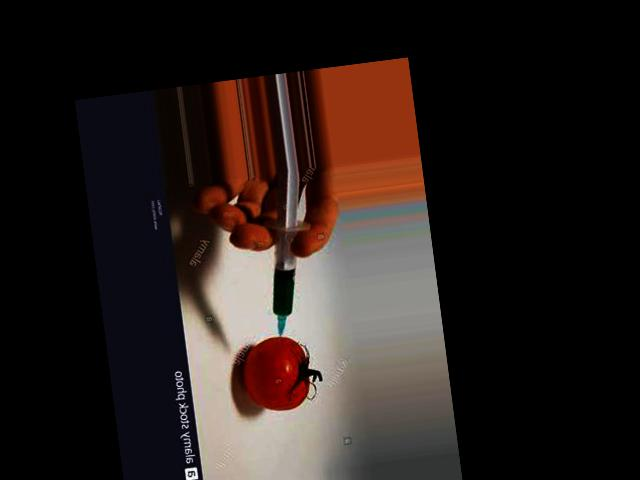tomato: (238, 333, 312, 413)
